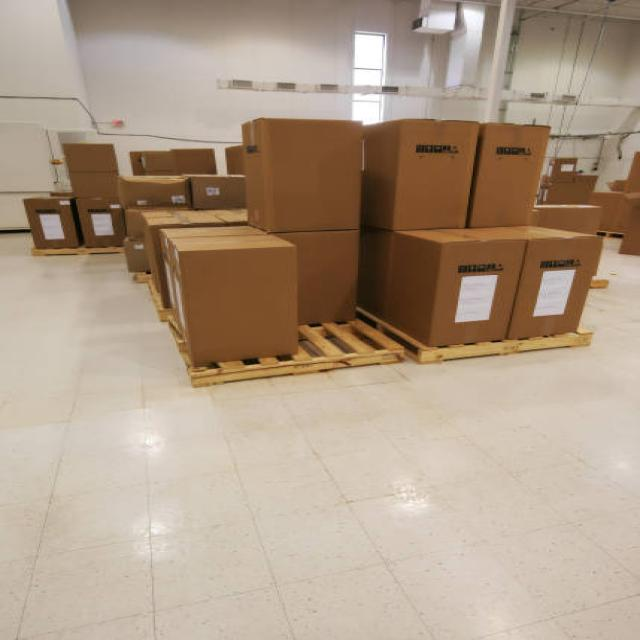Wooden-Pallets: (183, 341, 409, 388), (431, 326, 610, 372)
